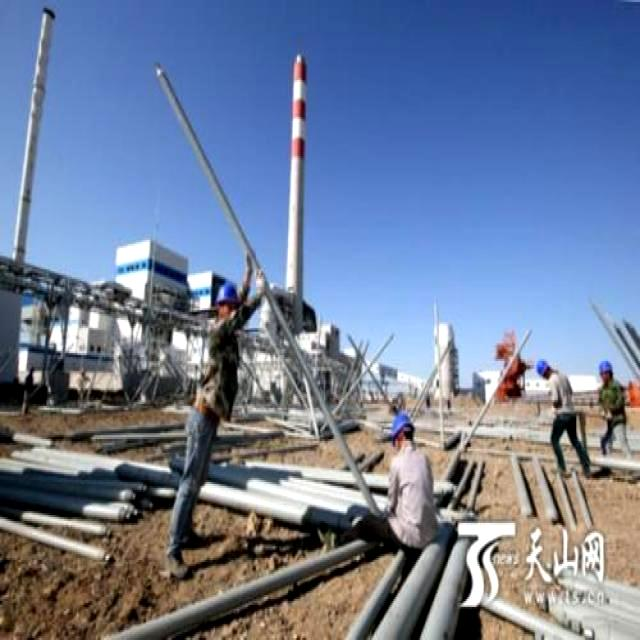hard_hat: (389, 410, 413, 443), (214, 281, 238, 306), (535, 359, 552, 377), (598, 359, 612, 380)
person: (169, 269, 260, 576), (369, 412, 436, 550), (535, 359, 590, 476), (598, 361, 630, 457)
